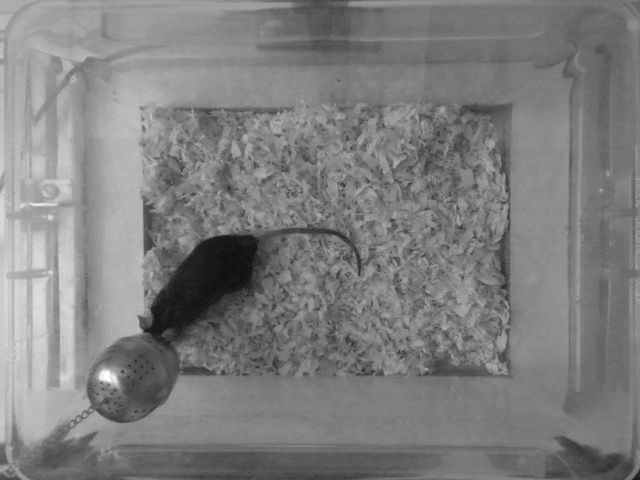mice: (134, 226, 364, 346)
